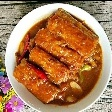hongshaodaiyu: (11, 11, 103, 106)
